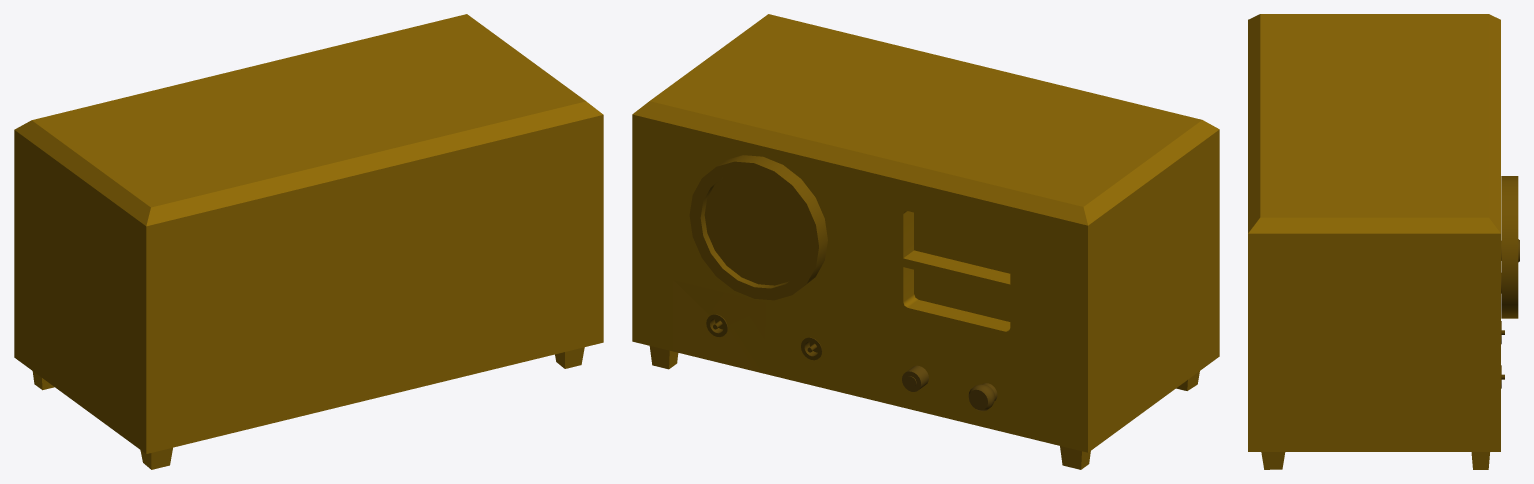
Rendered from Radio.fbx.
3 views of the same model, side by side, from view 1: azimuth 30°, elevation 25°; view 2: azimuth 150°, elevation 25°; view 3: azimuth 270°, elevation 25° (orthographic). The views are drawn at different scales.
Parts seen in each view (by area): view 1: pCube1; view 2: pCube1, pCylinder1, pCylinder6, pCylinder10; view 3: pCube1, pCylinder1.
Boxes of the visible parts, bbox=[...] form: pCube1: bbox=[14, 14, 603, 469]; pCube1: bbox=[632, 14, 1219, 469]; pCylinder1: bbox=[689, 155, 827, 300]; pCylinder6: bbox=[902, 365, 997, 411]; pCylinder10: bbox=[706, 314, 822, 360]; pCube1: bbox=[1248, 14, 1500, 469]; pCylinder1: bbox=[1501, 176, 1518, 318].
Bounding box in the file's own units: 1.01 × 0.5578 × 0.542.
